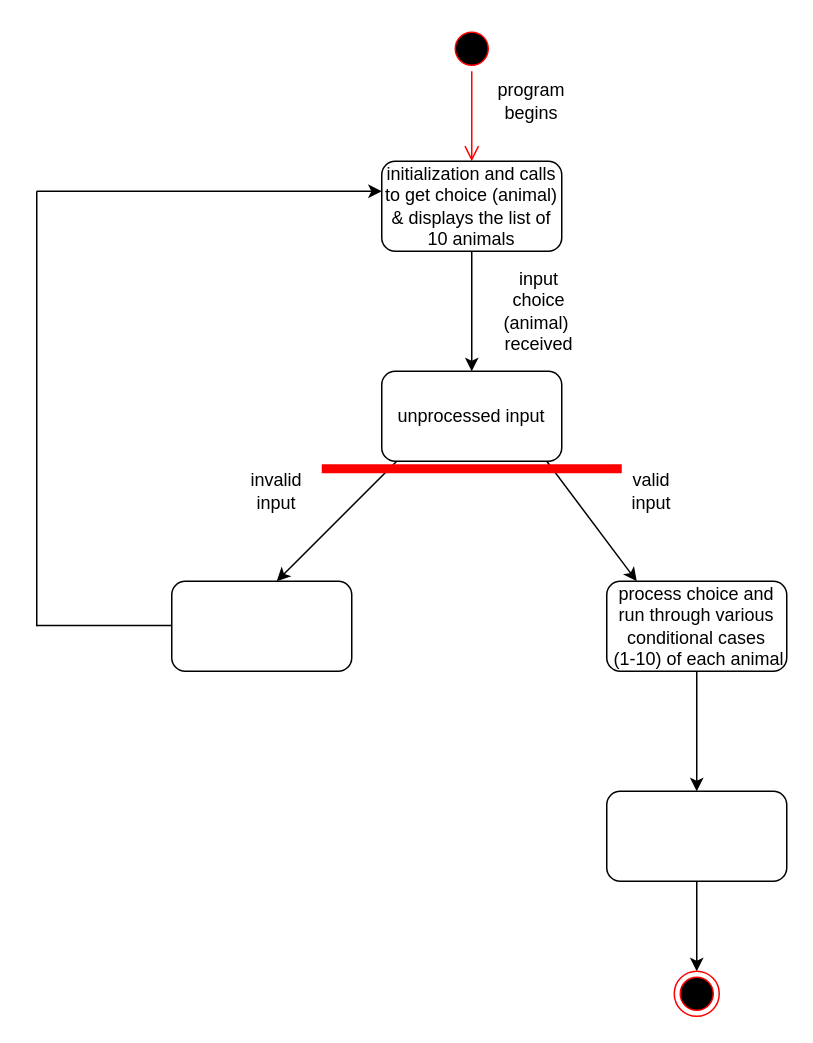
Image size: 813x1043. Some labels were removed from this diagram. The shapes that lost their labels are listed below. From the top down, each one's centre as x and y in pixels, then its label:
At (x=261, y=625): "error message, enter choice (animal) again".
At (x=696, y=835): "fun fact output displayed and choice returned".
